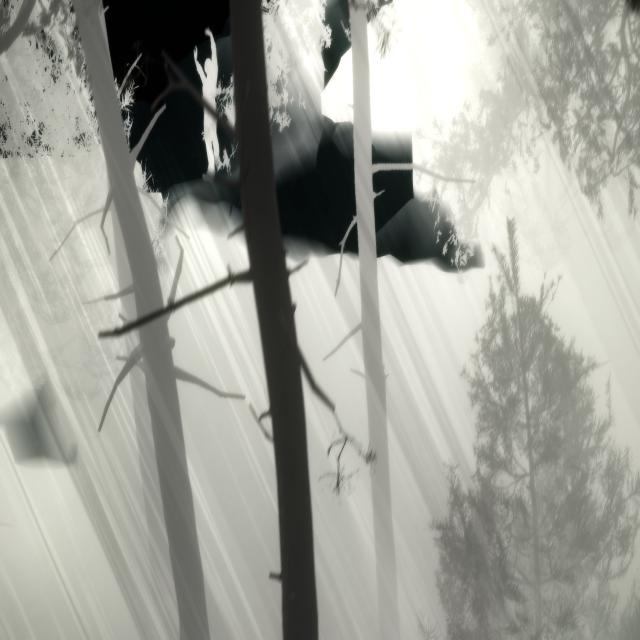Human: (190, 21, 224, 180)
